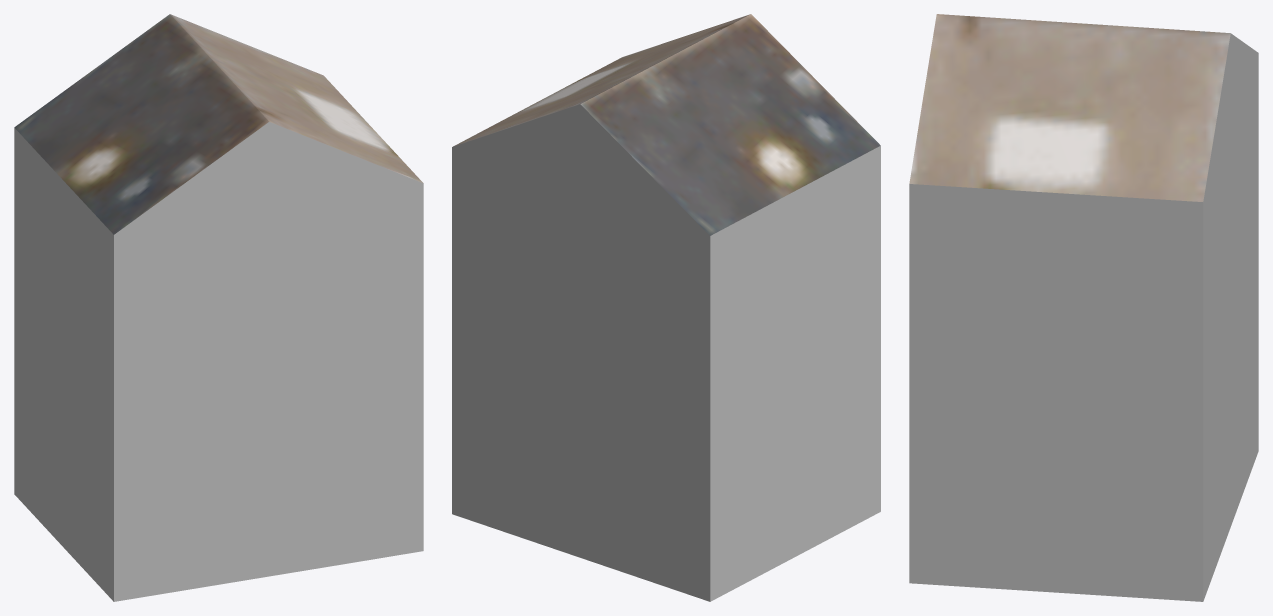
The model's file is DEBW_0010007TxbS.gltf.
The picture shows the model from 3 angles, left to right: view 1: azimuth 30°, elevation 25°; view 2: azimuth 150°, elevation 25°; view 3: azimuth 270°, elevation 25°; orthographic projection. The views are drawn at different scales.
Visible parts, largest first — view 1: Z_UP; view 2: Z_UP; view 3: Z_UP.
Part boxes in pixels (x1=…): Z_UP: x1=14, y1=14, x2=423, y2=601; Z_UP: x1=452, y1=14, x2=880, y2=601; Z_UP: x1=909, y1=14, x2=1258, y2=601.
Size of the model in its own units: 13.35 by 18.14 by 11.62.
2 materials, 1 textured.
